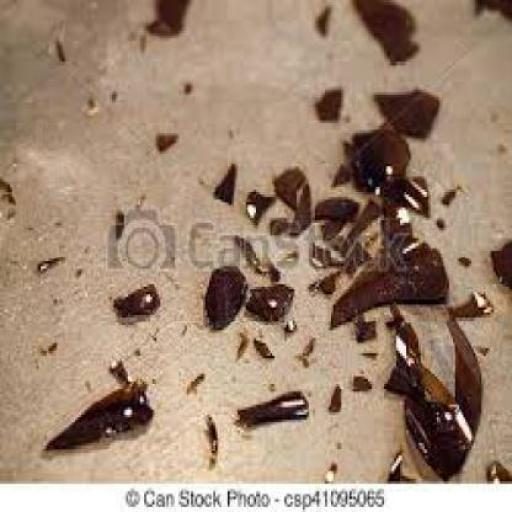glass: (402, 302, 479, 476), (330, 232, 448, 322), (36, 379, 151, 448), (343, 126, 410, 194), (352, 0, 416, 64), (374, 82, 438, 138), (232, 386, 306, 424), (378, 168, 431, 218), (110, 276, 158, 326), (203, 266, 240, 325), (286, 184, 317, 241), (308, 192, 358, 223), (242, 282, 288, 315), (144, 0, 185, 36), (273, 166, 308, 208), (233, 230, 264, 272), (211, 161, 238, 208), (454, 290, 489, 322), (489, 235, 510, 287), (471, 0, 510, 26), (315, 84, 343, 120), (384, 448, 416, 479), (240, 185, 268, 220), (201, 412, 220, 461), (351, 310, 376, 340), (482, 456, 510, 482), (311, 240, 338, 266), (313, 3, 331, 38), (328, 159, 350, 187), (32, 253, 65, 271), (108, 358, 127, 389), (252, 336, 278, 358), (309, 272, 335, 294), (323, 384, 342, 412), (112, 208, 126, 246), (50, 31, 66, 64), (183, 371, 207, 392), (150, 130, 175, 149), (0, 177, 15, 205), (282, 315, 301, 337), (317, 222, 339, 241), (266, 212, 284, 234), (231, 328, 244, 358), (278, 243, 297, 262), (439, 182, 457, 202), (352, 376, 372, 392), (323, 458, 338, 479), (40, 332, 56, 351), (300, 332, 315, 351), (434, 212, 447, 231), (294, 350, 309, 366), (181, 79, 194, 95), (359, 348, 378, 358), (451, 250, 463, 264), (71, 264, 82, 276)
